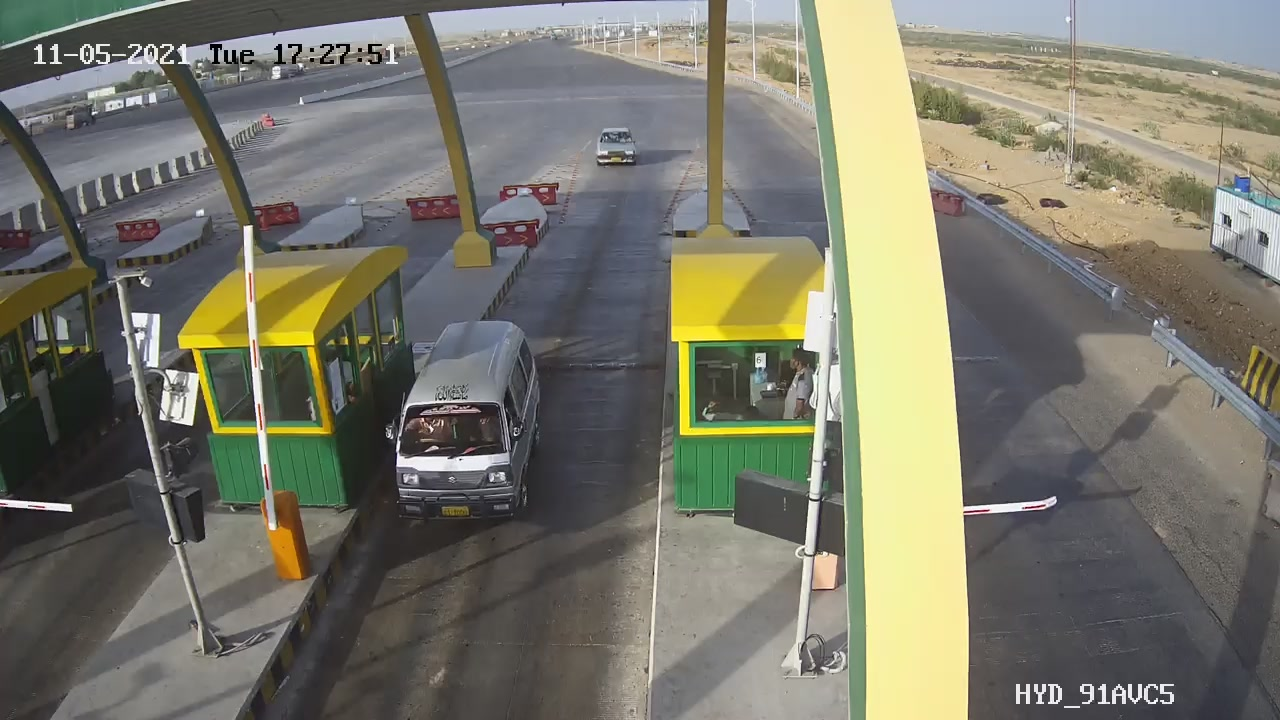F1: (368, 307, 561, 547)
